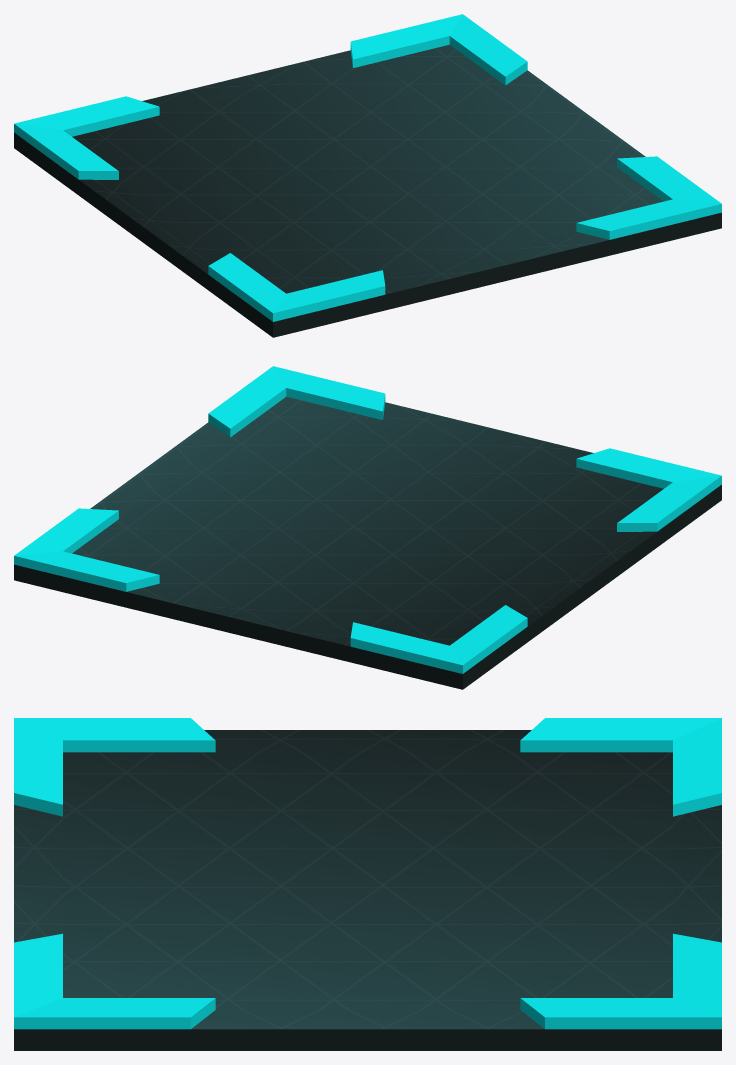
The model's file is TeleportPadModel.glb.
3 views of the same model, one above another, from view 1: azimuth 30°, elevation 25°; view 2: azimuth 150°, elevation 25°; view 3: azimuth 270°, elevation 25° (orthographic). The views are drawn at different scales.
Parts seen in each view (by area): view 1: TeleportPad; view 2: TeleportPad; view 3: TeleportPad.
Boxes of the visible parts, x1,y1,x2,y2 form: TeleportPad: (14, 14, 721, 337); TeleportPad: (14, 366, 721, 689); TeleportPad: (14, 718, 721, 1050).
Bounding box in the file's own units: 0.9286 × 0.0485 × 0.9286.
2 materials, 1 textured.
